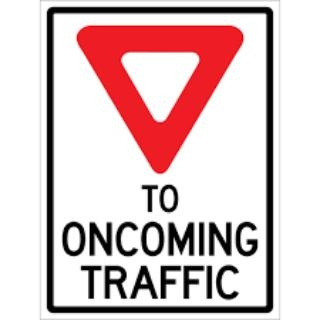sign_yield: (76, 27, 247, 175)
